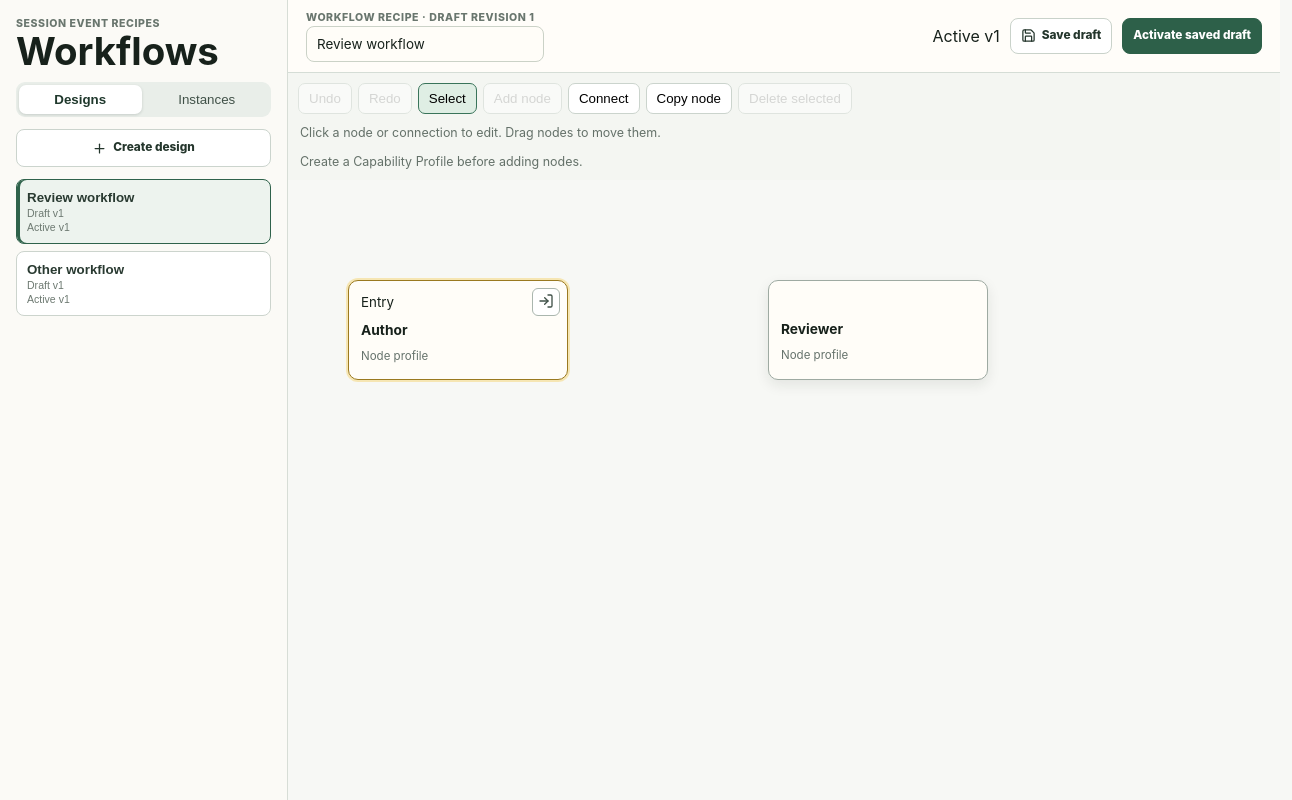
a late save keeps later typing and does not return to the previous recipe
This screenshot has width=1292, height=800.
Replace the text in the field named "Workflow name" with "Submitted": coordinates (425, 44) [306,26,544,62]
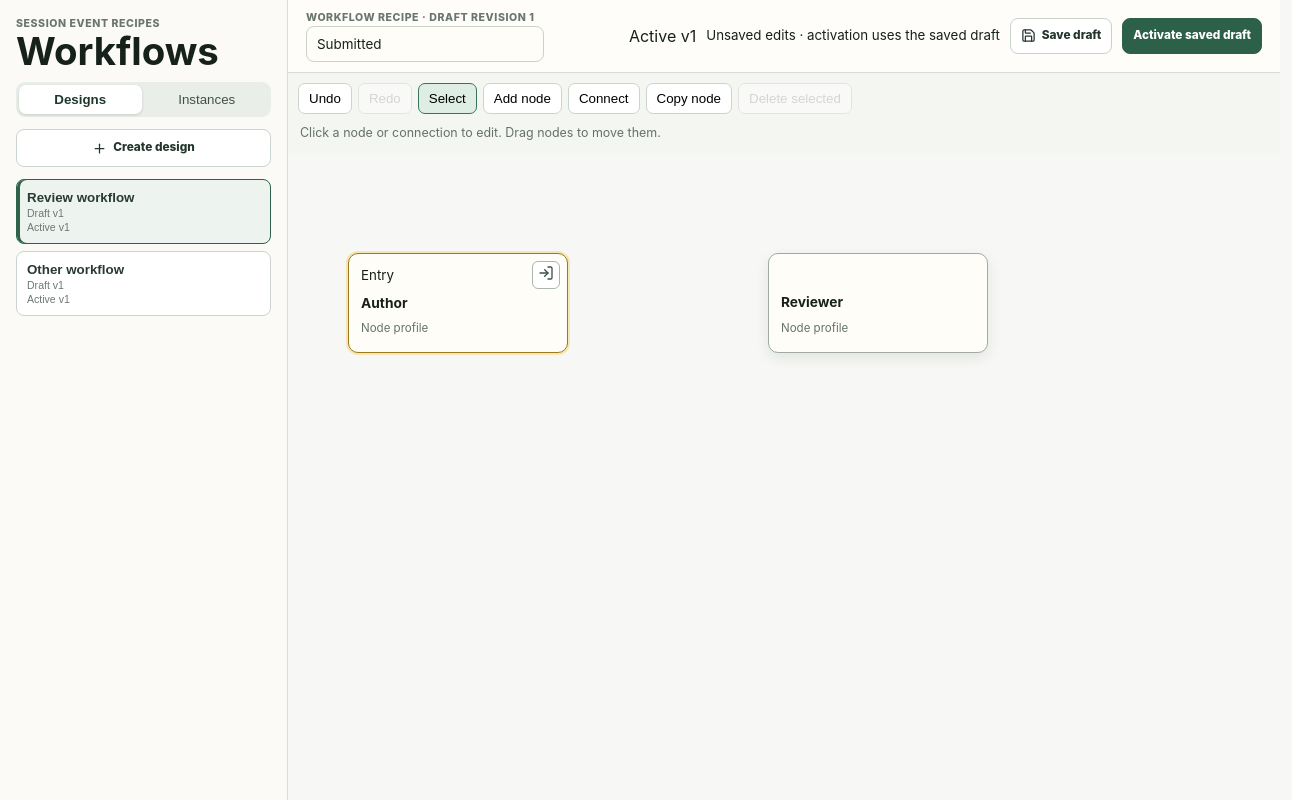
Click the button "Save draft": coordinates (1061, 36) [1010,18,1112,54]
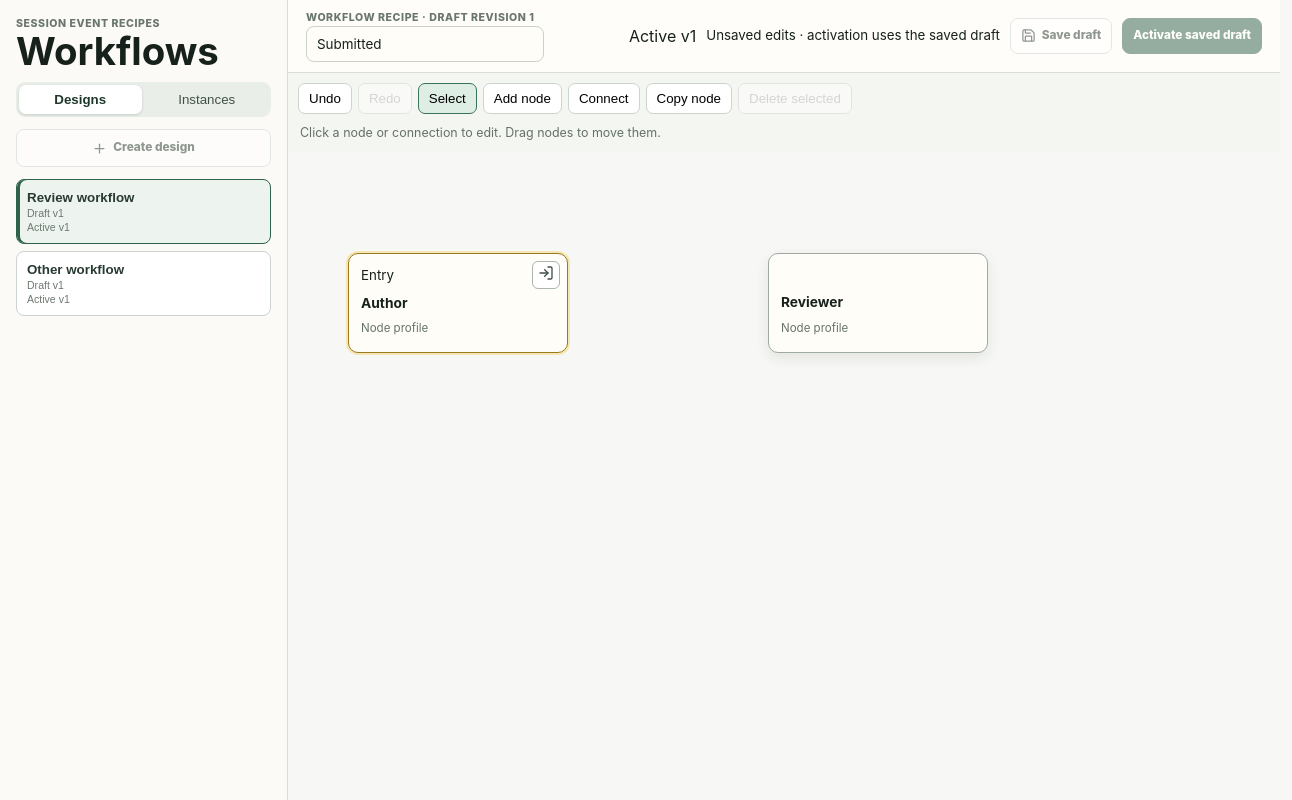
Replace the text in the field named "Workflow name" with "Later typing": coordinates (425, 44) [306,26,544,62]
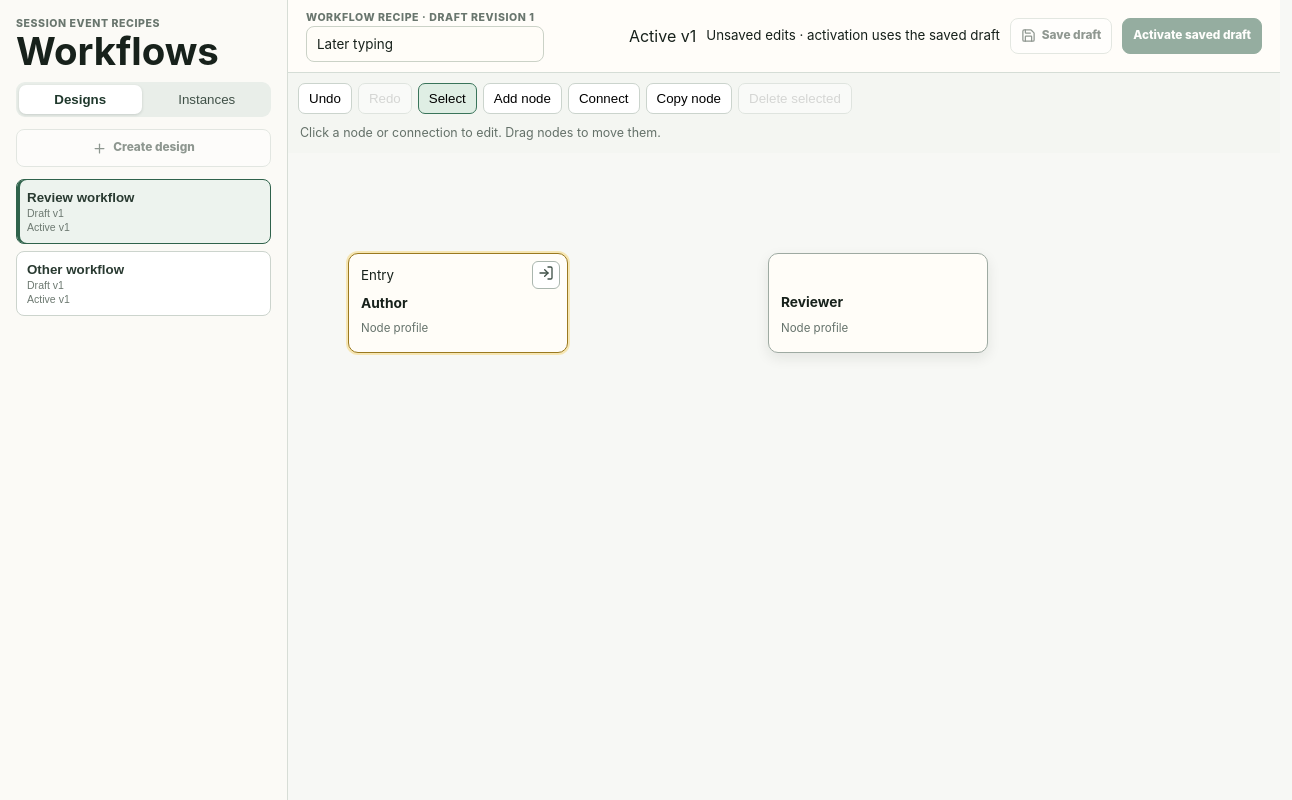
Click the button "Other workflow Draft v1 Active v1": coordinates (144, 284) [16,251,271,316]
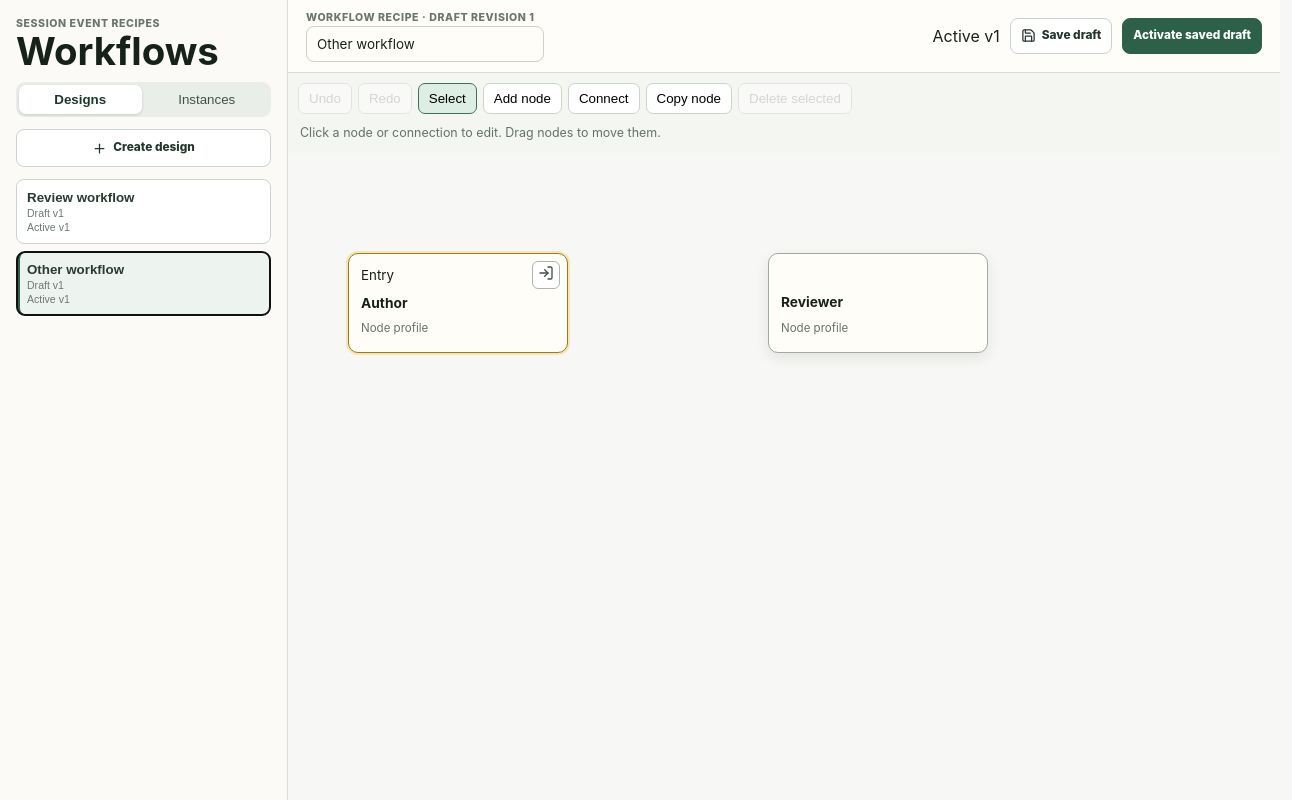
expect the field named "Workflow name" holds "Other workflow": met, box [306,26,544,62]
Click the button "Review workflow Draft v1 Active v1": coordinates (144, 212) [16,179,271,244]
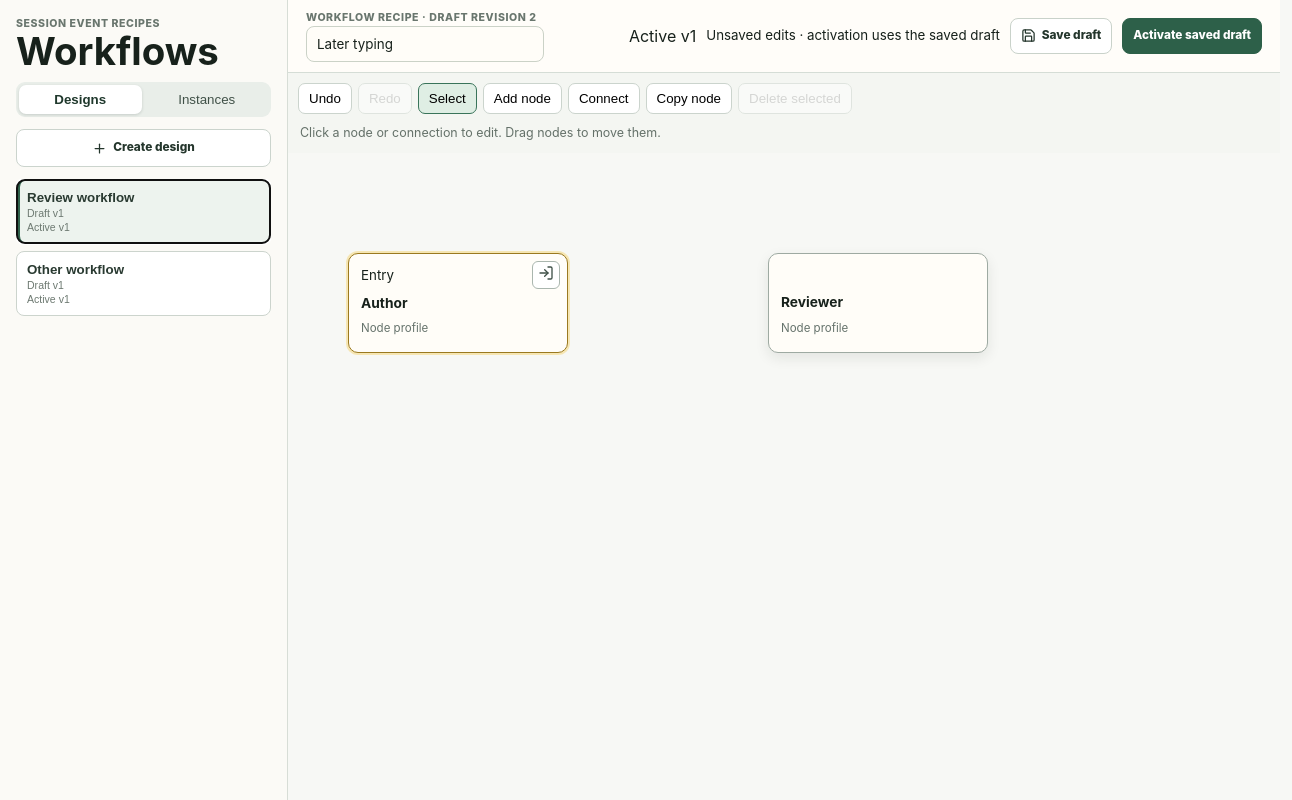
expect the text "Workflow recipe · draft revision 2" is shown: met, box [306,10,544,26]
